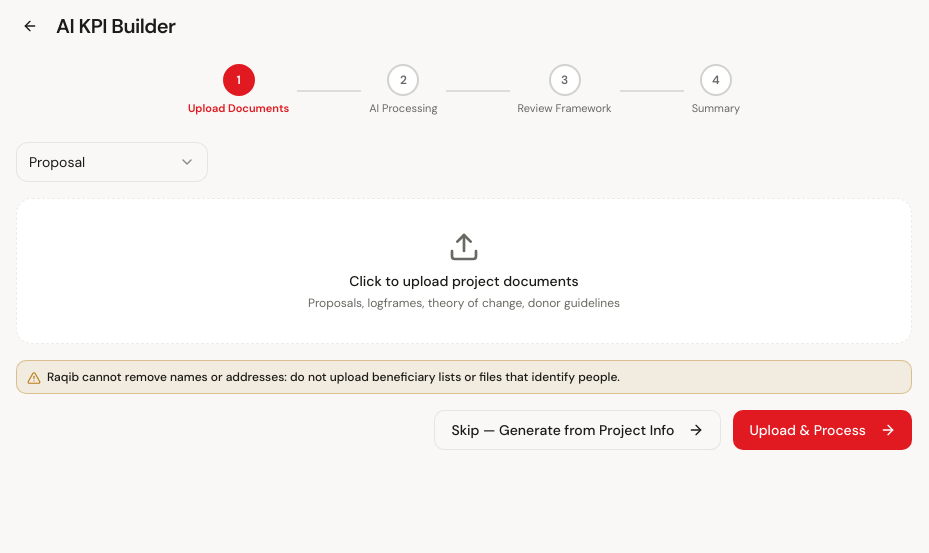
it: AIWizard framework generation › shows the backend's failure message, stops polling and offers the start button again
The width and height of the screenshot is (929, 553).
Step 1. Click the button "Upload & Process" → point(823, 430), box [733, 410, 912, 450]
Wait 35000 ms
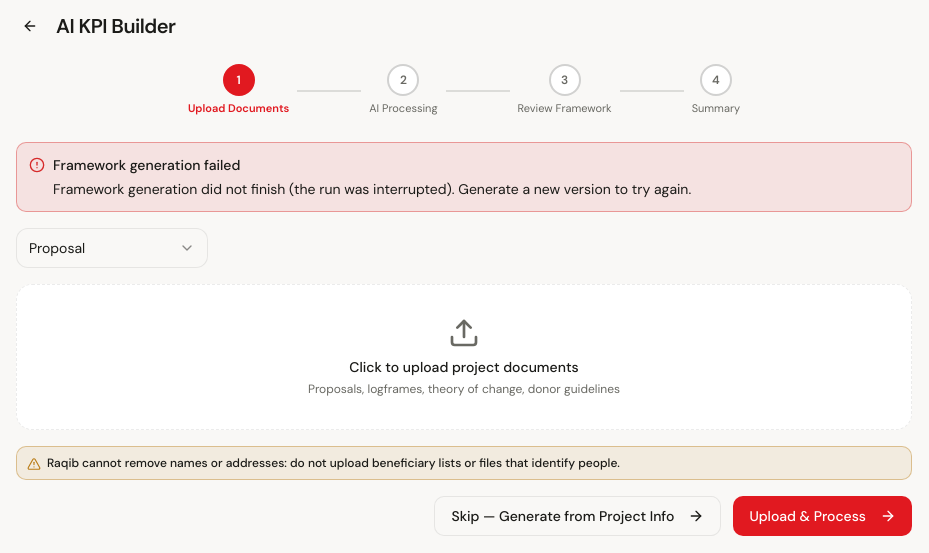
Check: the icon next to "Framework generation failed" is shown, box [29, 157, 45, 173]
Check: the text "Framework generation failed" is shown, box [53, 156, 240, 174]
Check: the text "Framework generation did not finish (the run was interrupted). Generate a new version to try again." is shown, box [53, 180, 691, 198]
